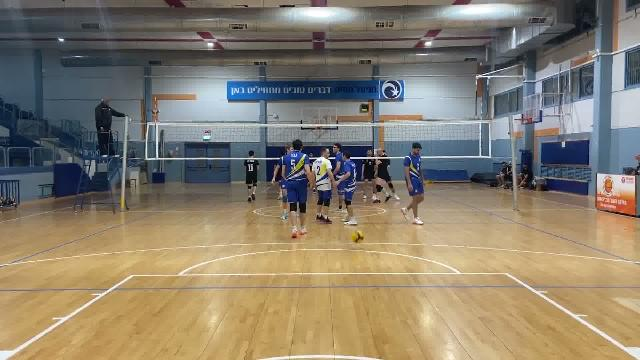ball: (352, 228, 364, 246)
